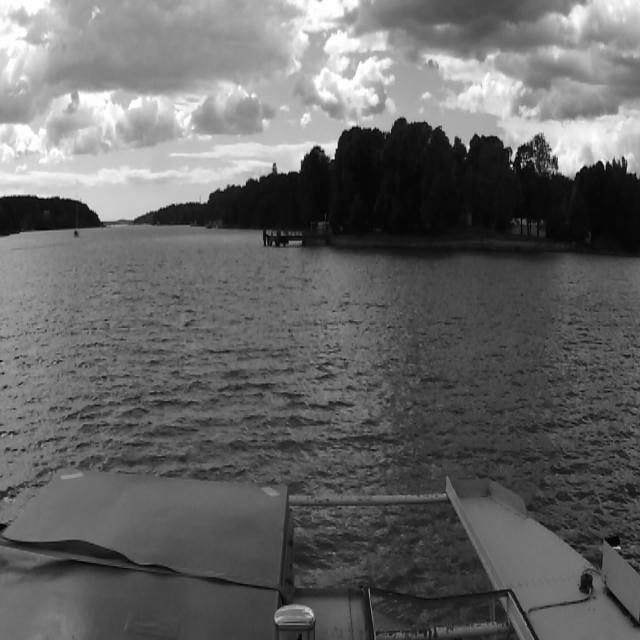ship: (73, 196, 80, 236)
